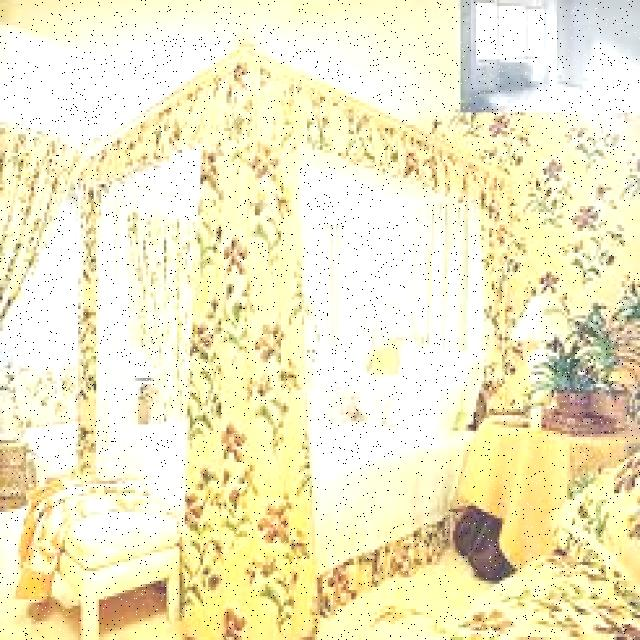bed: (96, 331, 478, 512)
